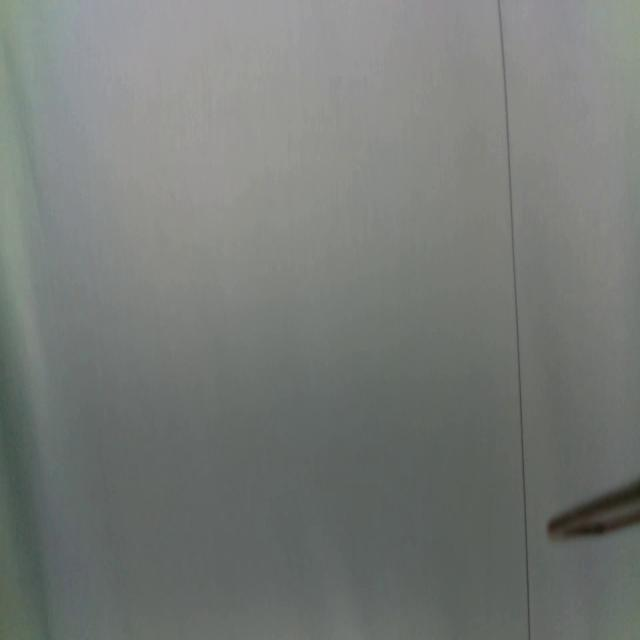crease: (496, 0, 534, 640)
